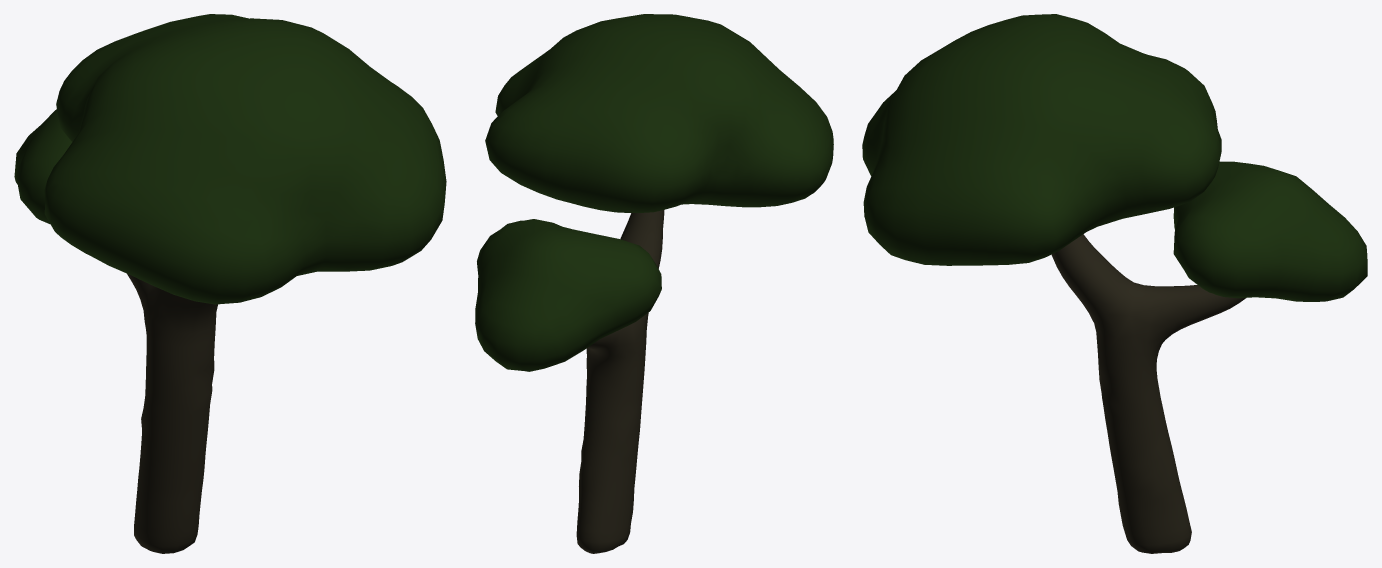
The model's file is Tree.fbx.
3 views of the same model, side by side, from view 1: azimuth 30°, elevation 25°; view 2: azimuth 150°, elevation 25°; view 3: azimuth 270°, elevation 25° (orthographic). The views are drawn at different scales.
Parts seen in each view (by area): view 1: Hojas_L, Tronco_L; view 2: Hojas_L, Tronco_L; view 3: Hojas_L, Tronco_L.
Part boxes in pixels (box(x1,y1,x2,y2)): Hojas_L: box(14, 14, 446, 304); Tronco_L: box(127, 273, 217, 553); Hojas_L: box(475, 14, 833, 371); Tronco_L: box(576, 209, 664, 553); Hojas_L: box(862, 14, 1367, 301); Tronco_L: box(1051, 234, 1245, 553).
Size of the model in its own units: 16.91 by 24 by 21.57.
